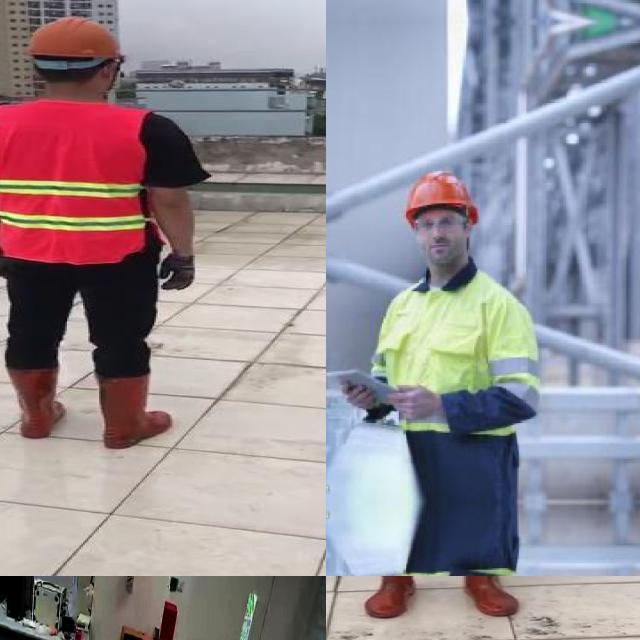No_Ear-Protection: (463, 219, 473, 237)
No_Glasses: (418, 215, 461, 234)
boots: (90, 374, 177, 452), (1, 364, 71, 439), (457, 576, 518, 618), (363, 576, 425, 617)
face_nomask: (418, 232, 464, 263)
hand_glove: (163, 250, 195, 290)
hand_noglove: (389, 386, 444, 421), (342, 384, 376, 410)
head_helmet: (18, 14, 128, 64), (405, 171, 480, 226)
person: (0, 11, 212, 455), (326, 576, 560, 630)
vest: (0, 106, 155, 262)
